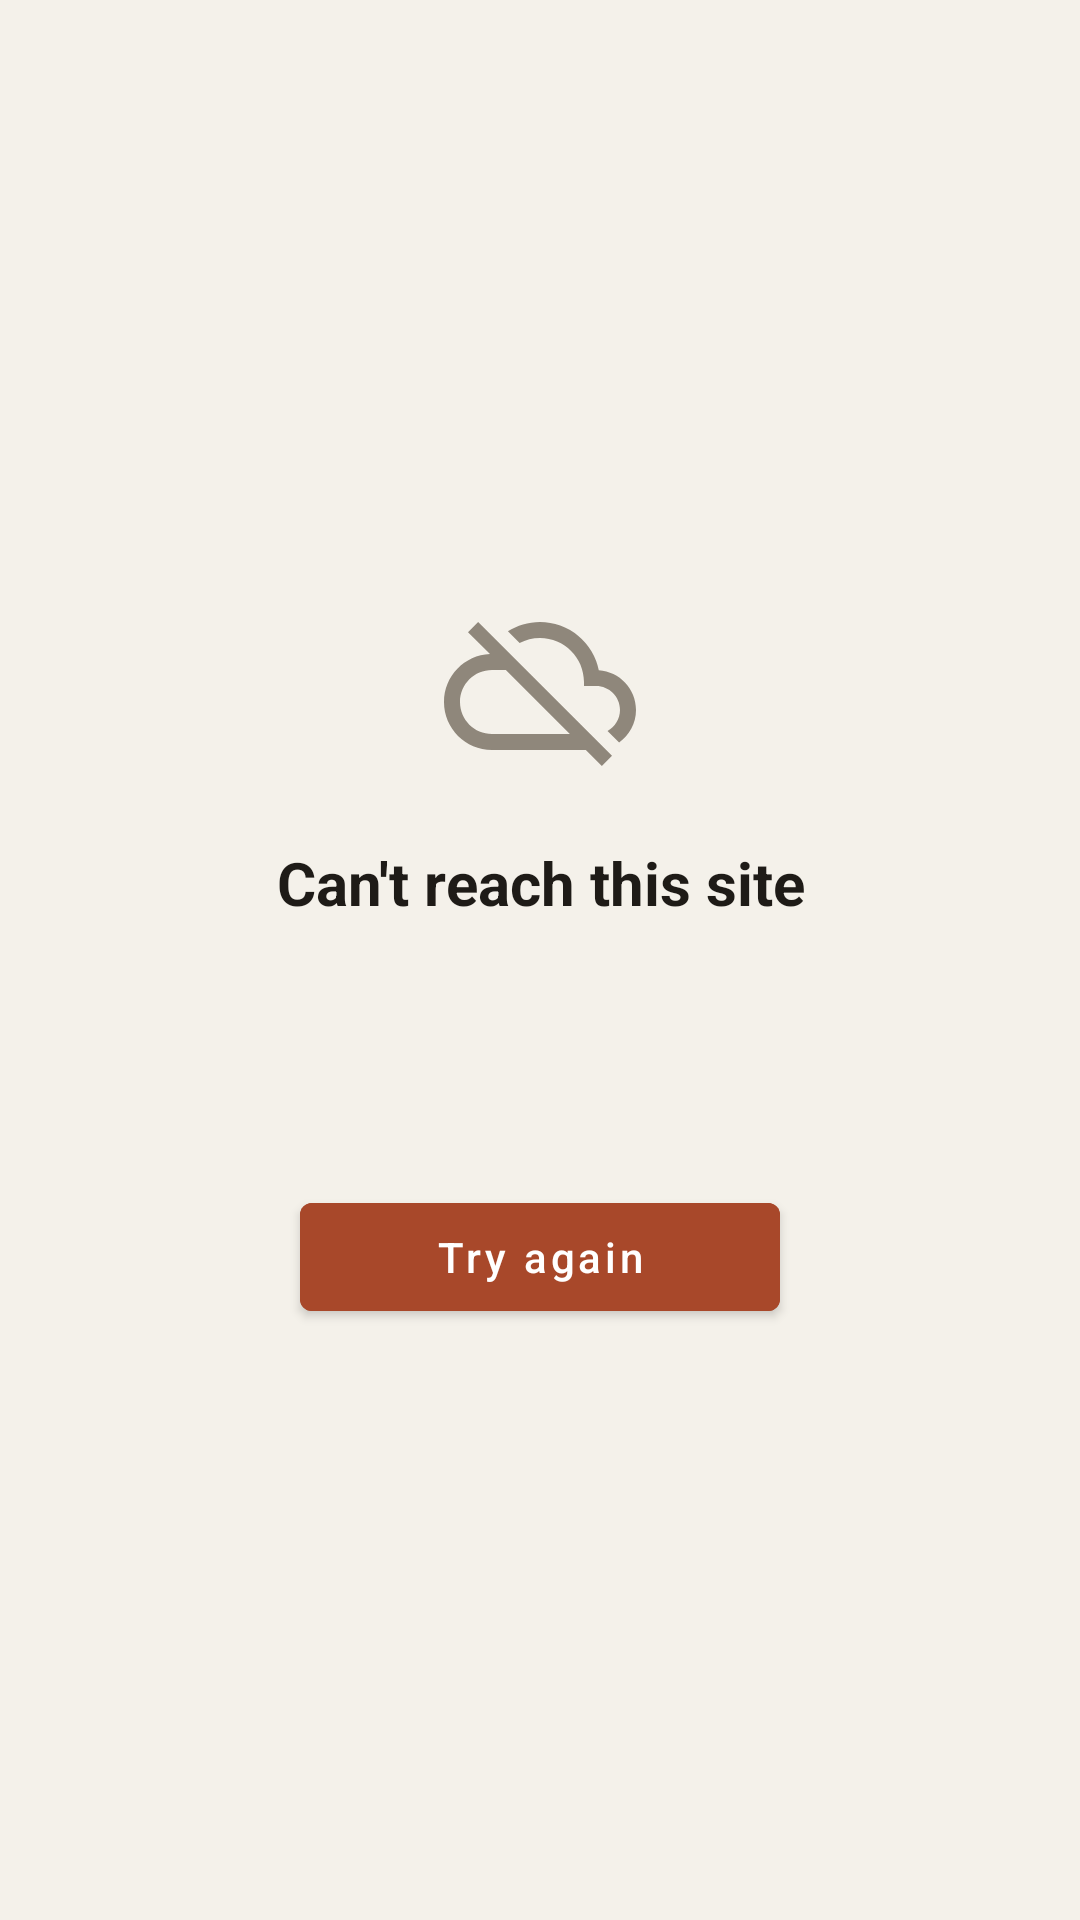

Where icons sit on this 1080w x 1920h app screen, as (x1, y1, x2, y2):
unreachable: (444, 622, 636, 766)
